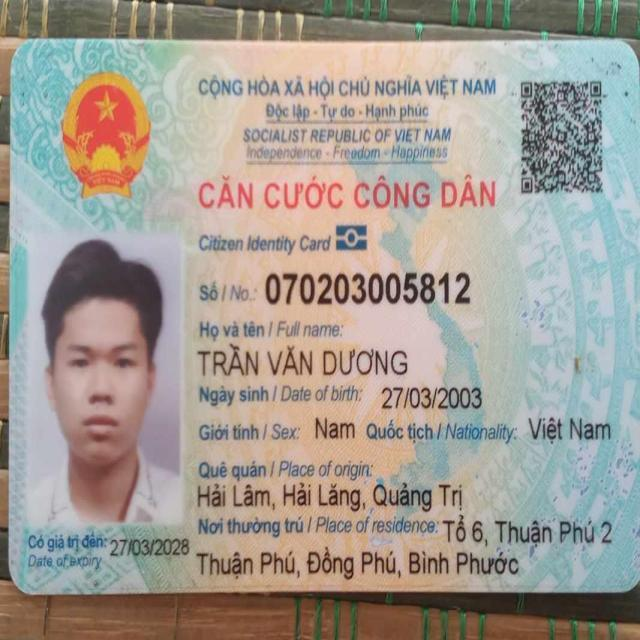current_place: (190, 548, 521, 579), (440, 515, 616, 549)
dob: (374, 381, 485, 414)
expire_date: (107, 536, 196, 559)
gender: (310, 414, 359, 442)
id: (260, 262, 472, 307)
name: (197, 341, 408, 382)
nationality: (524, 413, 615, 444)
origin_place: (196, 461, 466, 513)
qr: (517, 74, 608, 202)
